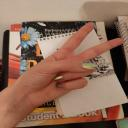PeaceSign: (18, 20, 125, 107)
